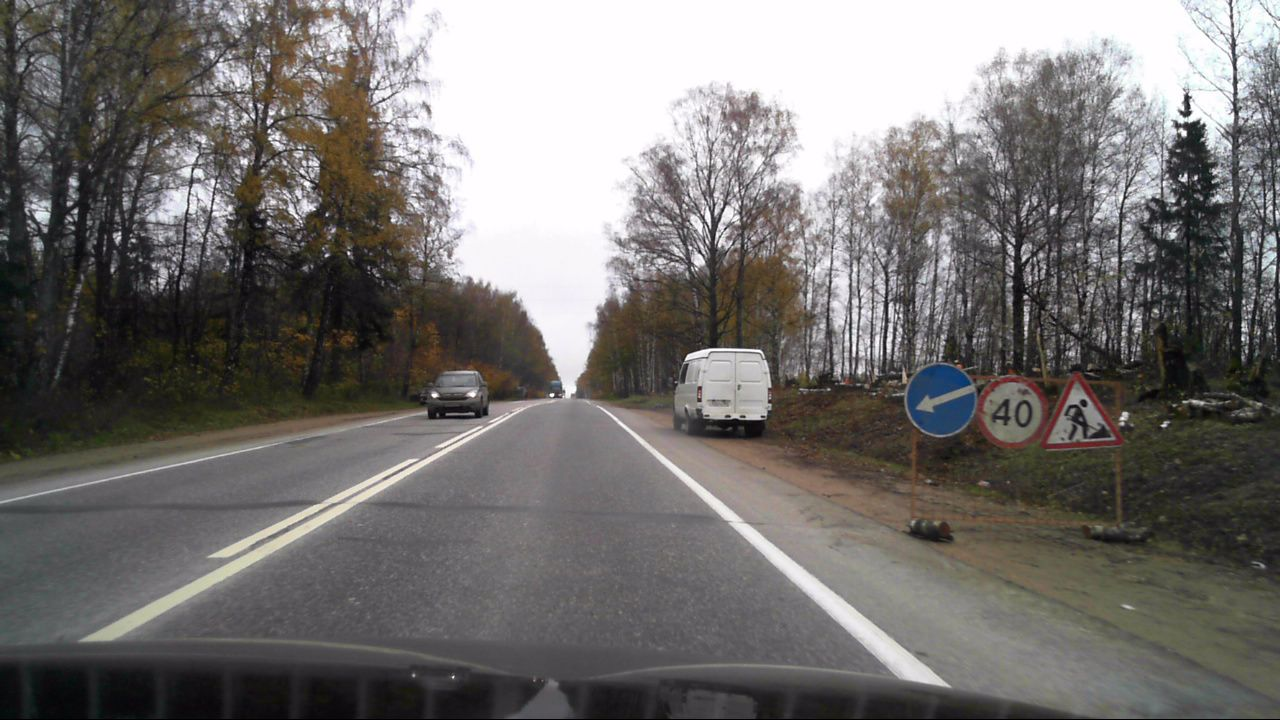speed_warning_40: (976, 374, 1045, 449)
